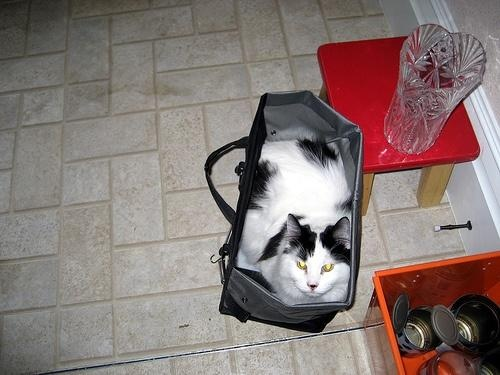cat: (234, 130, 360, 309)
